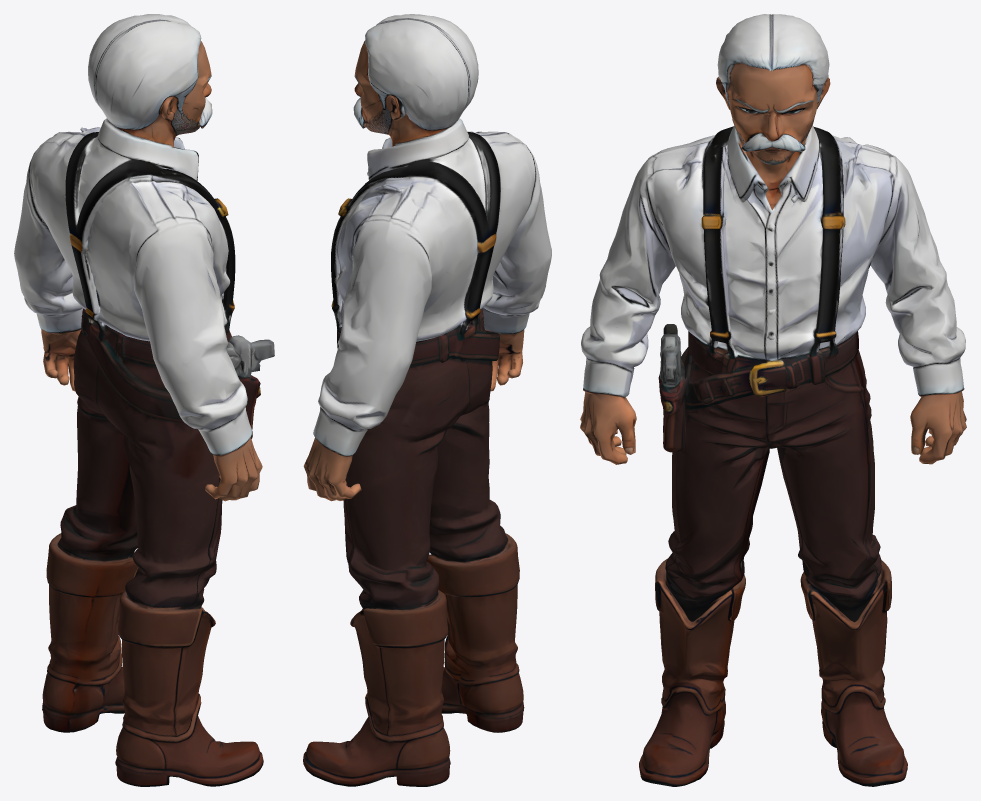
Rendered from armando_modelo.glb.
3 renders of one model, left to right at view 1: azimuth 30°, elevation 25°; view 2: azimuth 150°, elevation 25°; view 3: azimuth 270°, elevation 25°, orthographic. The views are drawn at different scales.
Visible parts, largest first — view 1: tripo_node_e374a98d-1657-4775-ba40-05102e1b6484; view 2: tripo_node_e374a98d-1657-4775-ba40-05102e1b6484; view 3: tripo_node_e374a98d-1657-4775-ba40-05102e1b6484.
Part boxes in pixels (box(x1,y1,x2,y2)): tripo_node_e374a98d-1657-4775-ba40-05102e1b6484: box(14, 14, 274, 786); tripo_node_e374a98d-1657-4775-ba40-05102e1b6484: box(303, 14, 551, 786); tripo_node_e374a98d-1657-4775-ba40-05102e1b6484: box(580, 14, 966, 786).
Size of the model in its own units: 0.2134 by 1 by 0.4708.
1 material, 1 textured.
